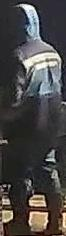vest: (12, 41, 63, 149)
